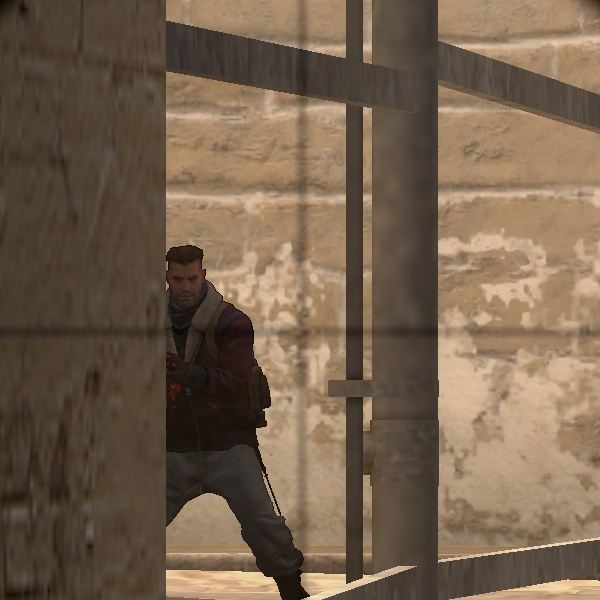t_body: (145, 217, 288, 586)
t_head: (157, 237, 226, 322)
